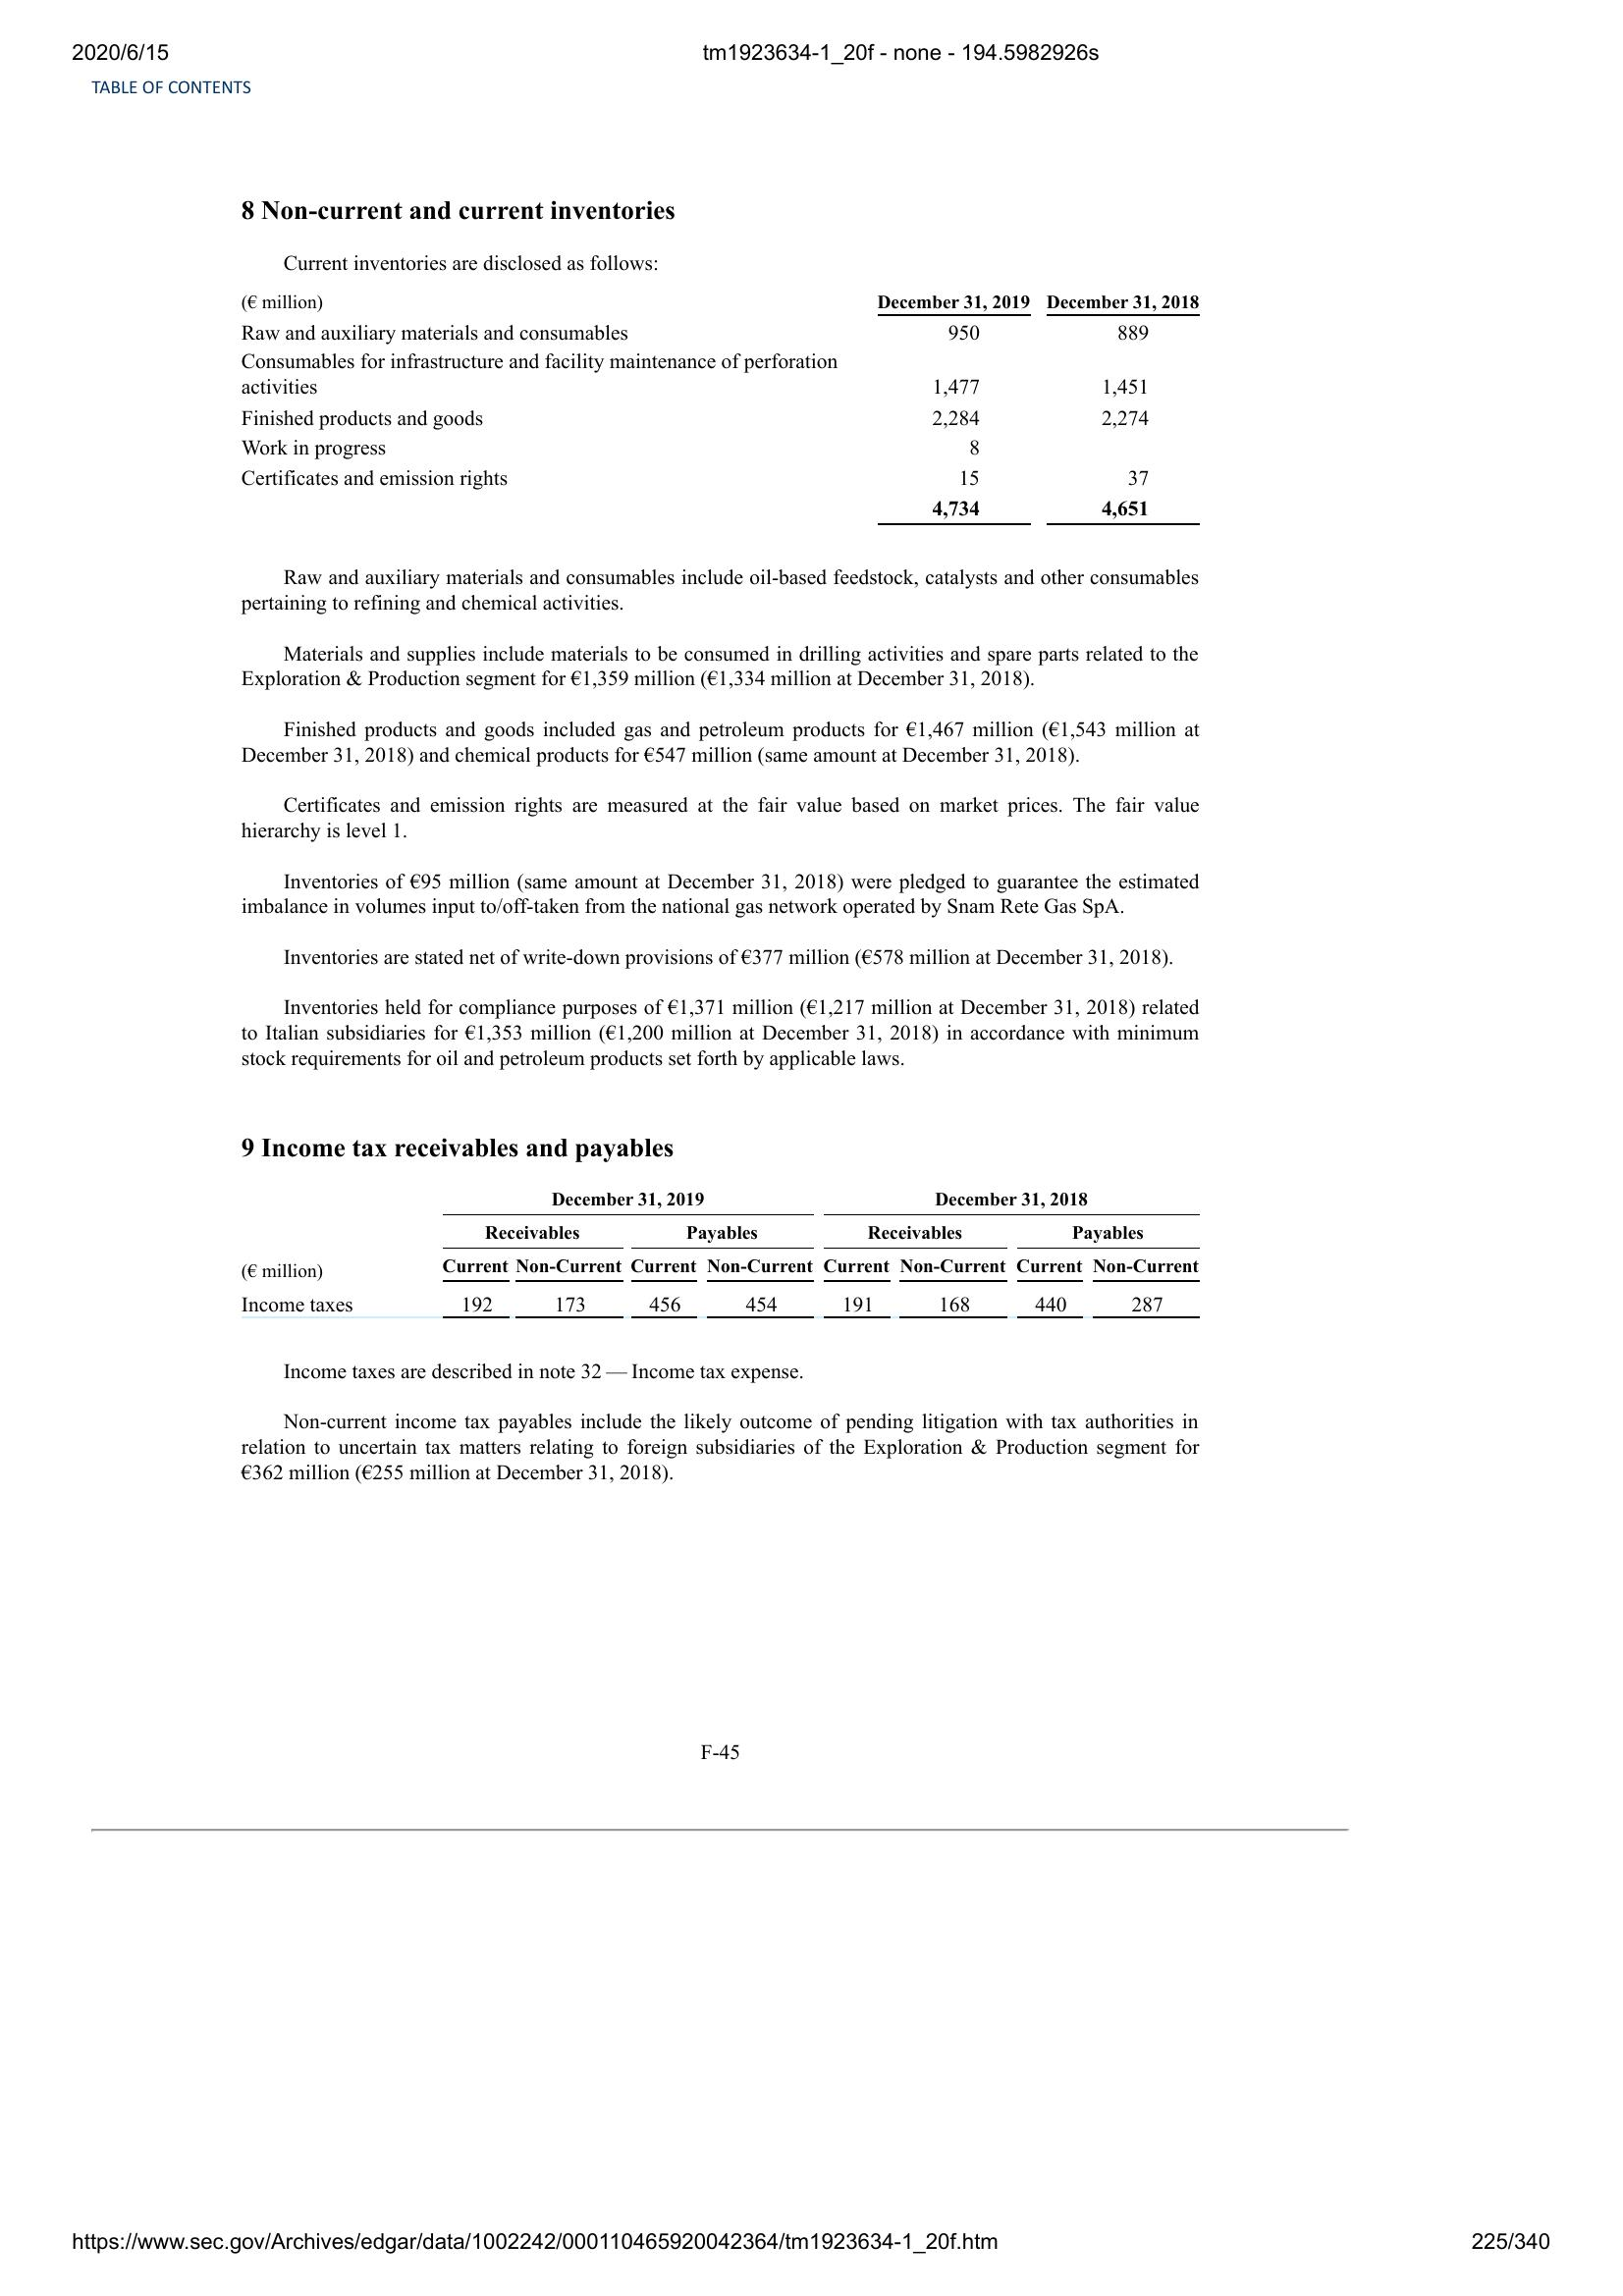table: (232, 293, 1214, 534), (230, 1183, 1208, 1327)
